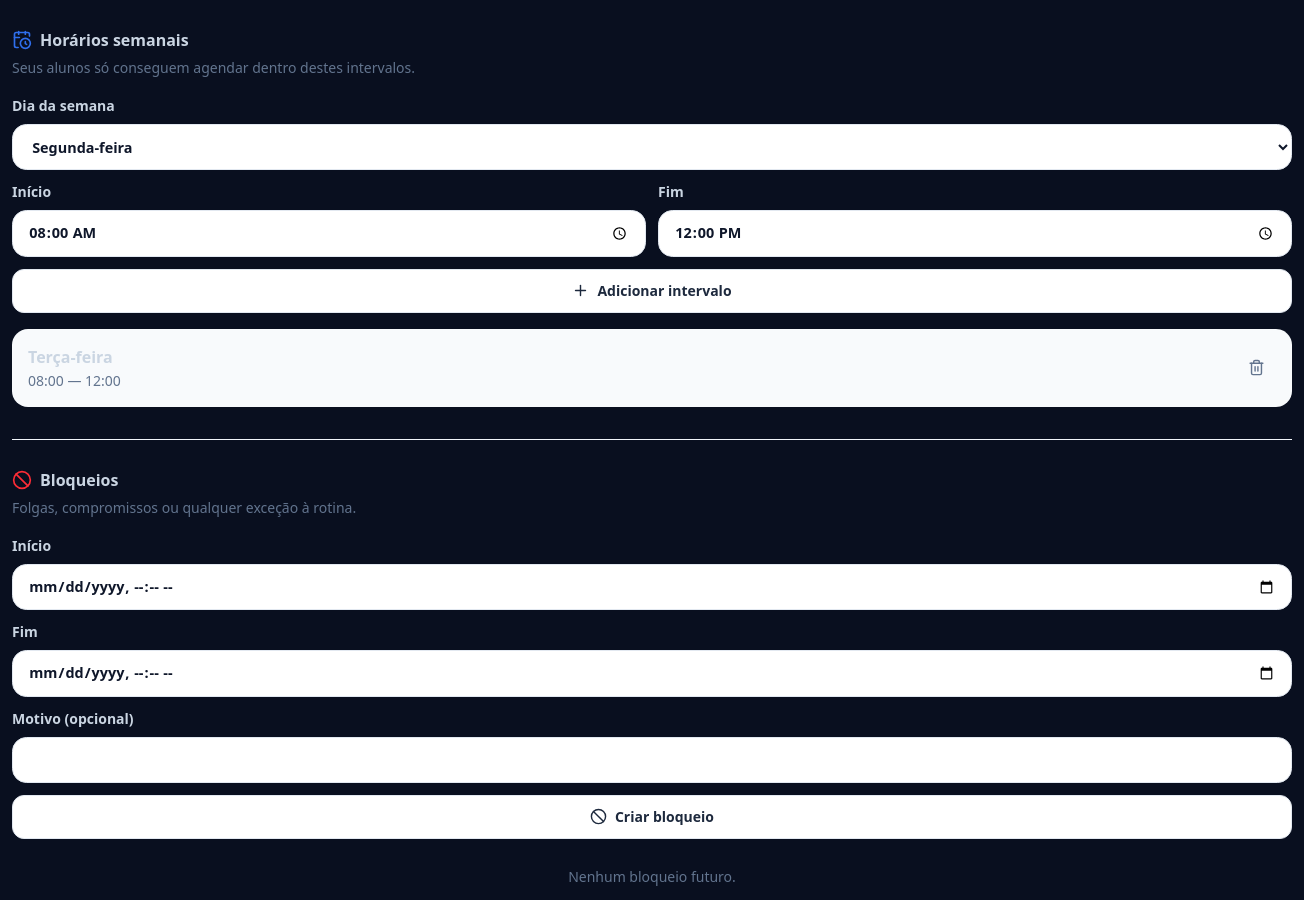
Test: AvailabilityPanel › lista horários e bloqueios e valida o intervalo antes de enviar
Expected: the text "Terça-feira" is shown, [28, 345, 121, 369]
Expected: the text "08:00 — 12:00" is shown, [28, 371, 121, 391]
Replace the text in the time field labelled "Fim" with "07:00" at point(975, 234), box [658, 210, 1292, 257]
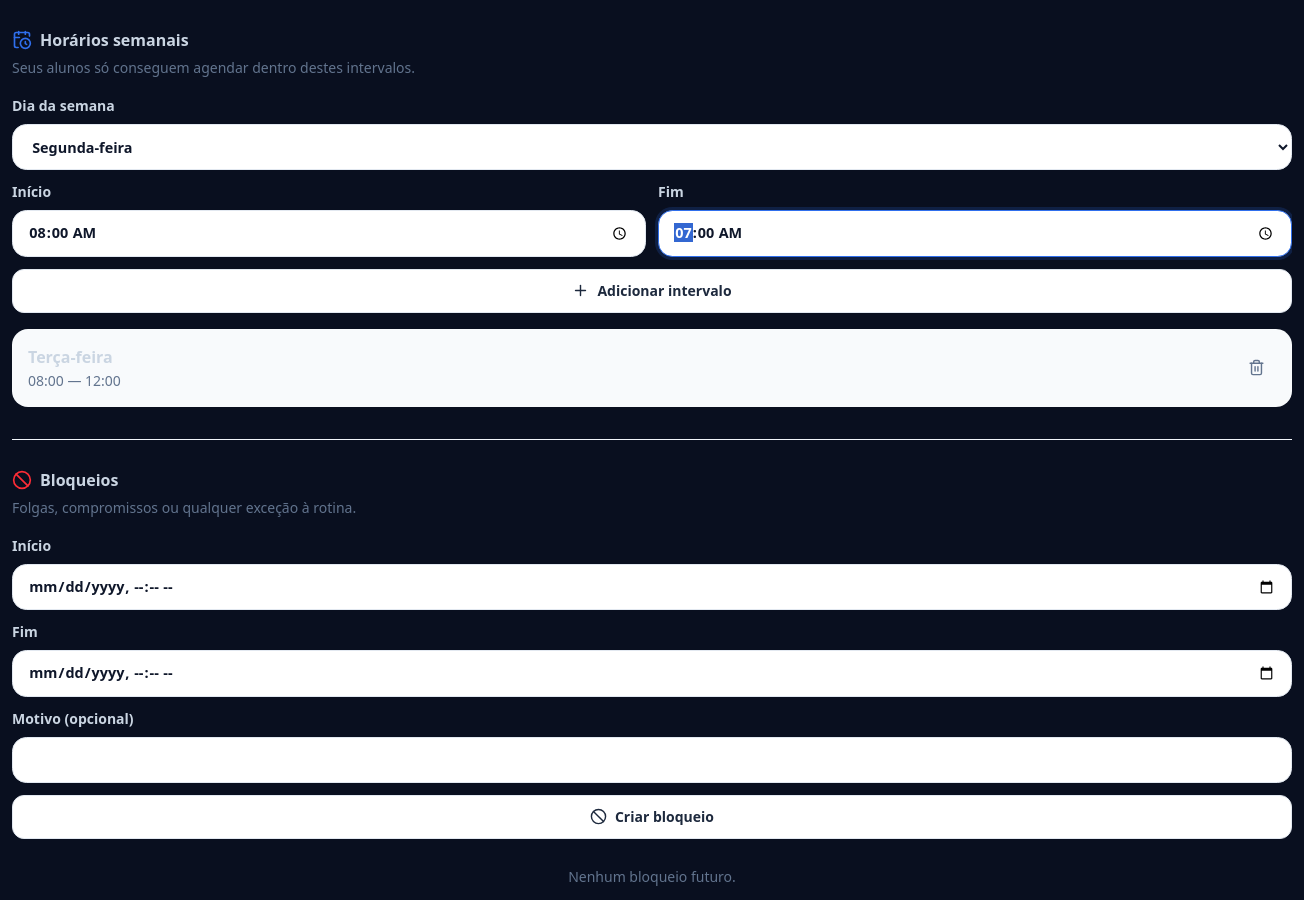
Click the button "Adicionar intervalo" at point(652, 291), box [12, 269, 1292, 313]
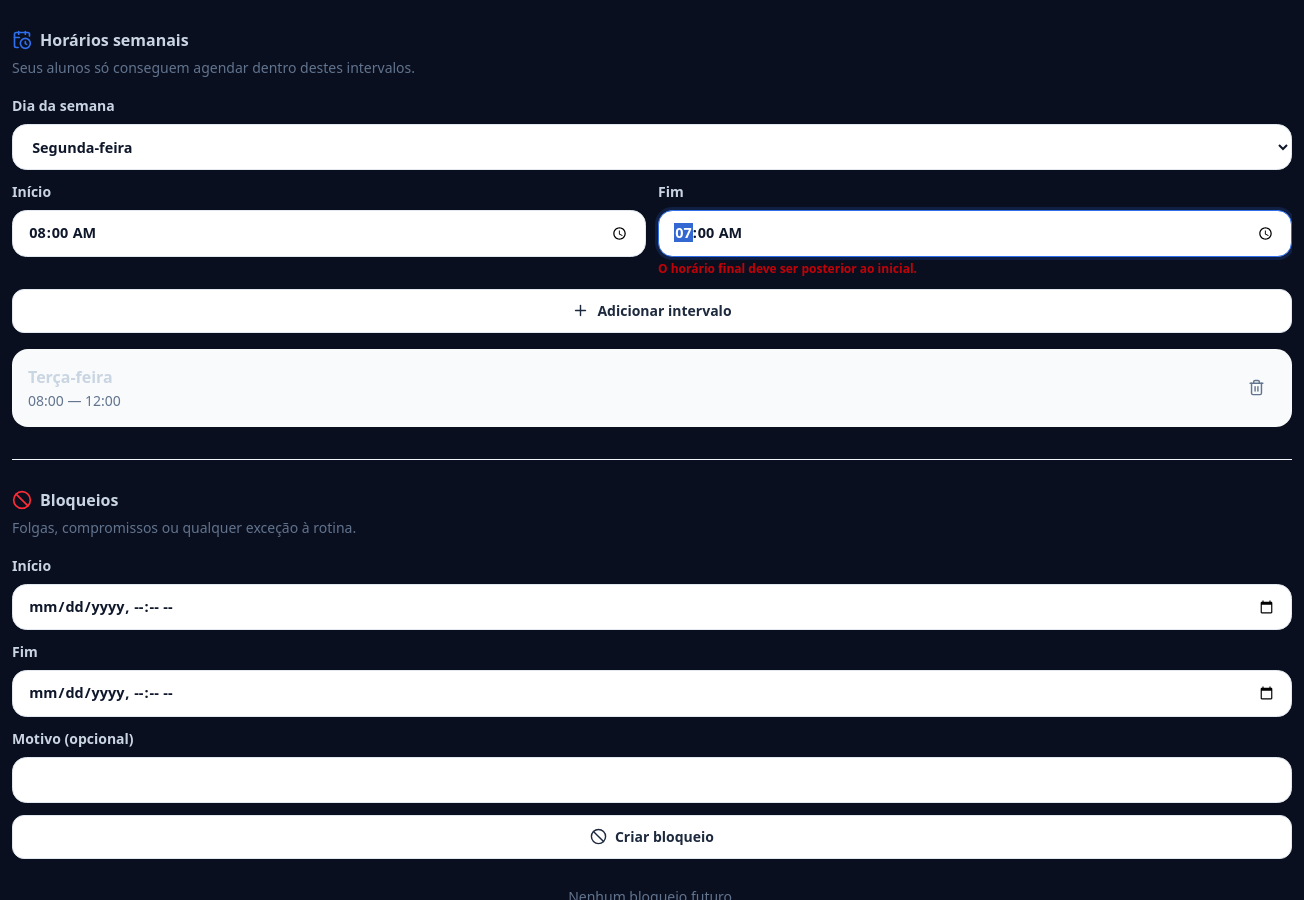
Expected: the message reads "O horário final deve ser posterior ao inicial.", [658, 260, 917, 277]
